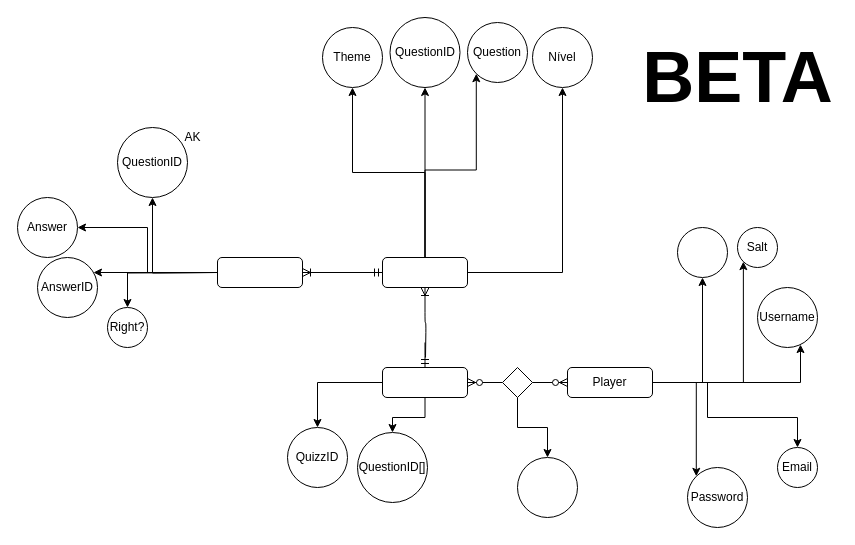
The diagram is 855 pixels wide and 545 high, and some of its shapes have lost their labels. Each missing label, with the box of its shape:
Answers: (216, 256, 302, 288)
PlayerID: (676, 226, 728, 278)
Questions: (382, 256, 468, 288)
Quizz: (382, 366, 468, 398)
Score: (516, 456, 578, 518)
